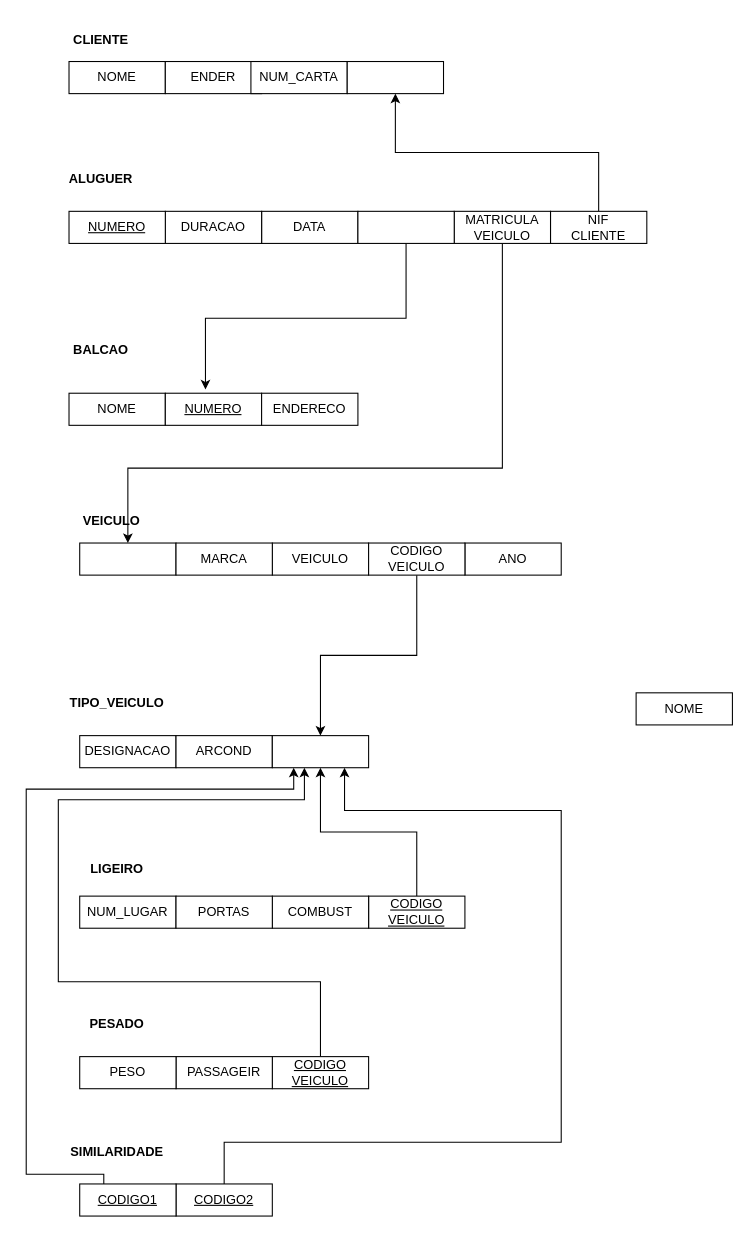
This 751x1235 diagram has some shape labels left out. The shapes that lost their labels are listed below. From the top down, each one's centre as x and y in pixels, then its label:
At (x=395, y=77): "NIF".
At (x=405, y=226): "NUMERO BALCAO".
At (x=127, y=558): "MATRICULA".
At (x=320, y=751): "CODIGO".
